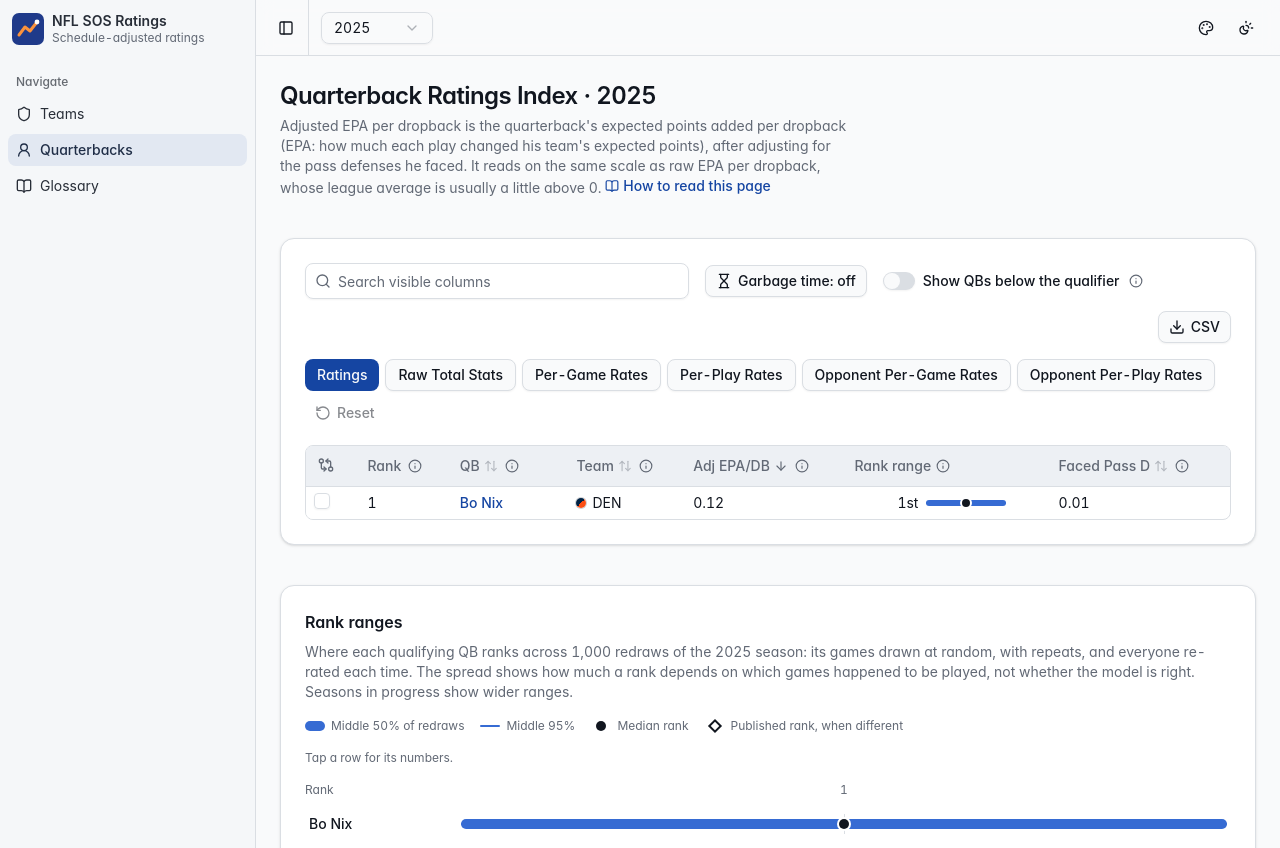
Test: QB index › says a QB below the qualifier has no rank range, and why
Expected: the column heading "Rank range" is shown, [846,446,1050,486]
Click the switch named "Show QBs below the qualifier" at (899, 281), box [883,272,915,290]
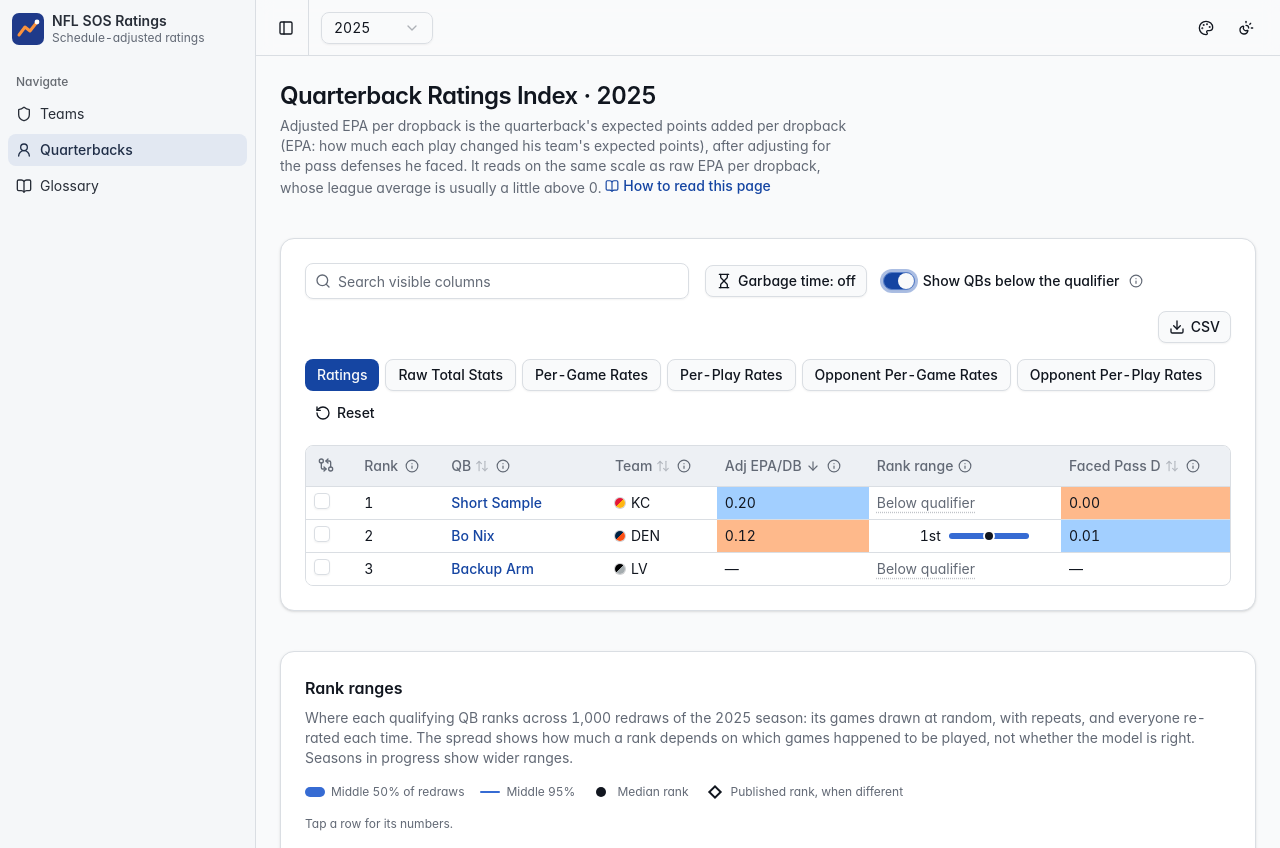
Now the button with aria-label "Below the qualifier: 25 of 238 pass attempts" reads "Below qualifier", box [877,492,975,512]
